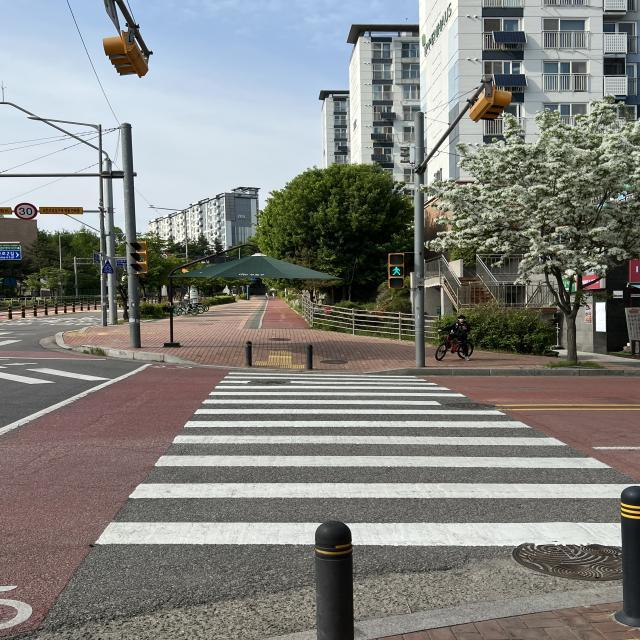crosswalk: (101, 350, 640, 640)
geen-crossing: (388, 248, 412, 294)
